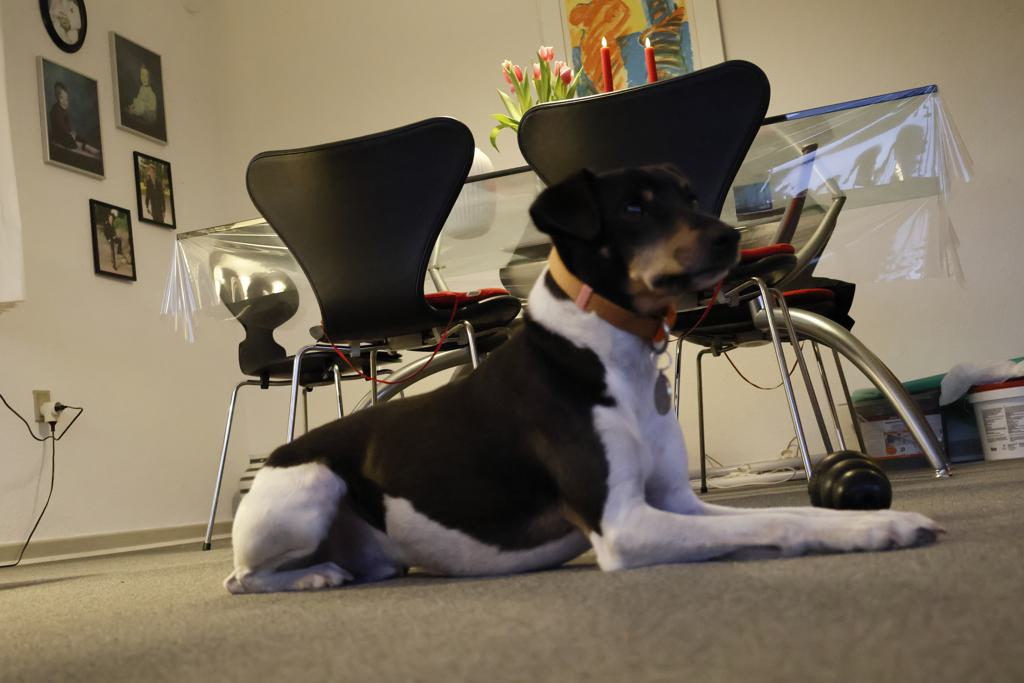Dog: (209, 144, 959, 606)
